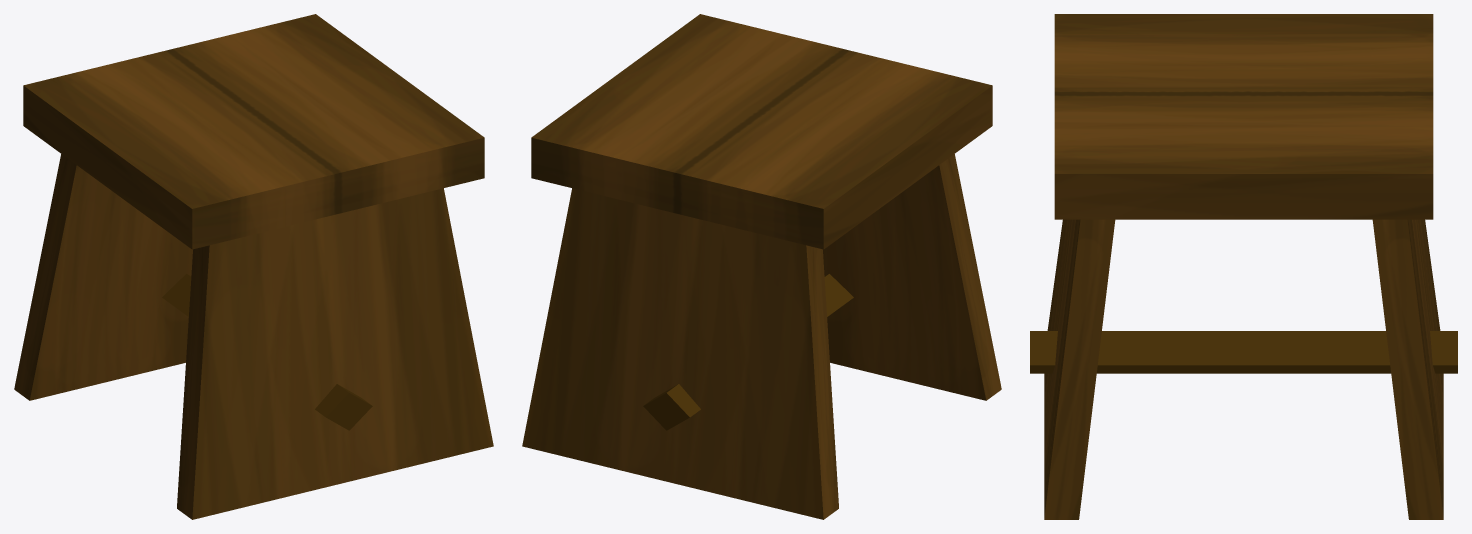
The model's file is TressleStool.fbx.
The picture shows the model from 3 angles, left to right: view 1: azimuth 30°, elevation 25°; view 2: azimuth 150°, elevation 25°; view 3: azimuth 270°, elevation 25°; orthographic projection. The views are drawn at different scales.
Parts seen in each view (by area): view 1: Cube.001; view 2: Cube.001; view 3: Cube.001.
Boxes of the visible parts, x1,y1,x2,y2 form: Cube.001: (14,14,493,519); Cube.001: (522,14,1001,519); Cube.001: (1030,14,1457,519).
Bounding box in the file's own units: 51.47 × 50 × 56.44.
1 material, 1 textured.
